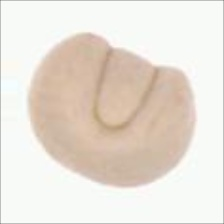L5: (92, 47, 159, 134)
L6: (25, 32, 199, 190)
